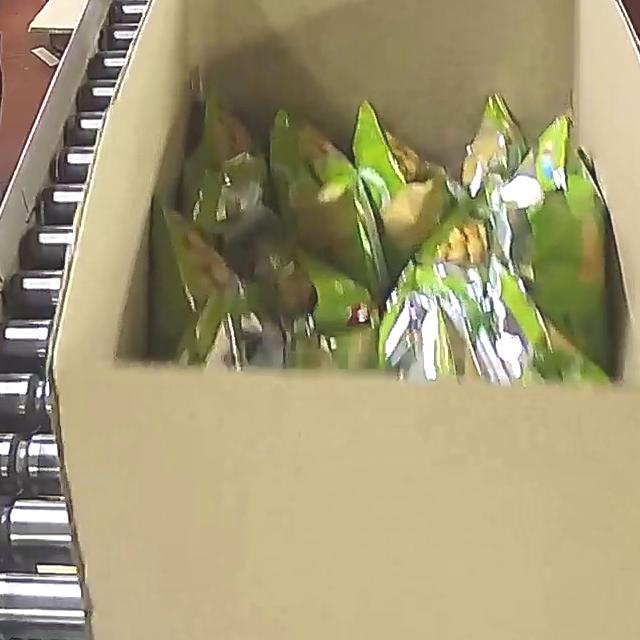yogurt: (211, 12, 640, 387)
